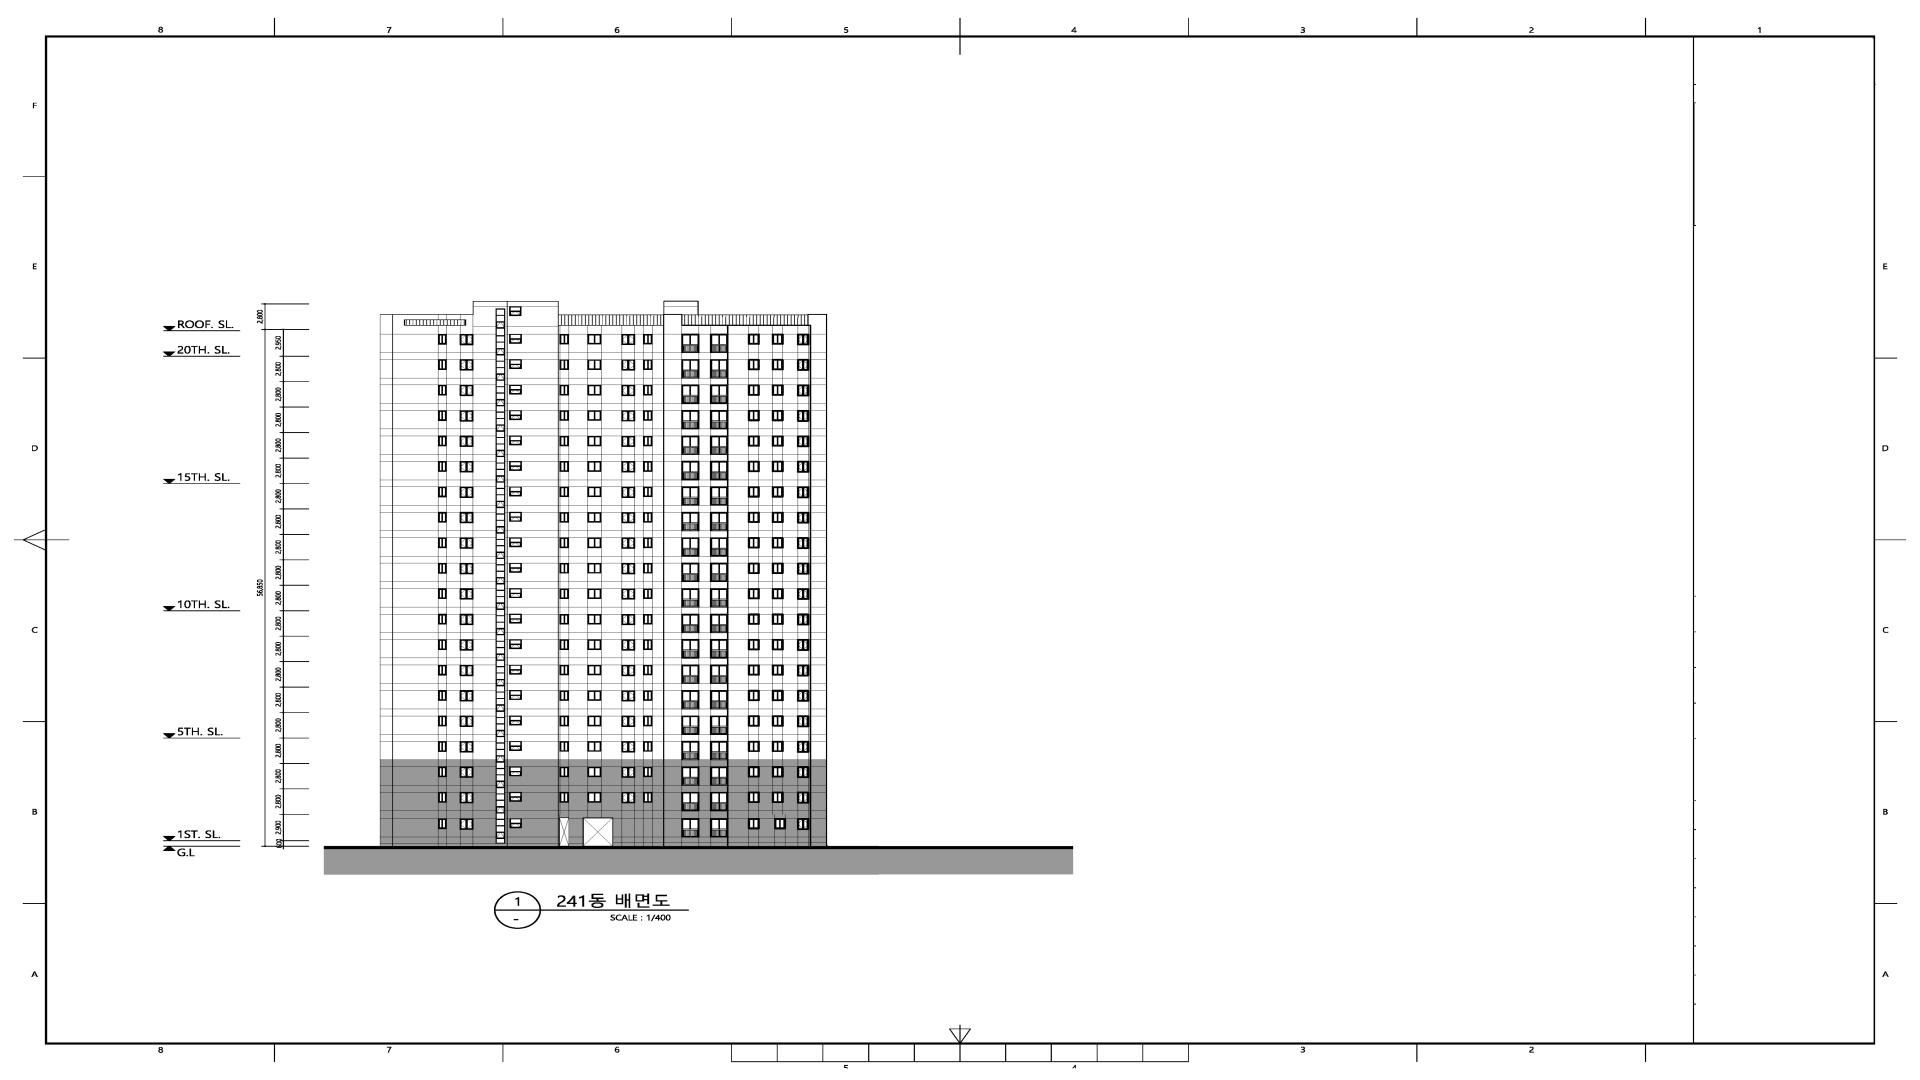door: (583, 818, 613, 847), (559, 818, 570, 847)
wall: (380, 301, 827, 847)
window: (404, 319, 465, 326), (680, 435, 699, 455), (709, 818, 728, 837), (709, 766, 728, 786), (709, 741, 728, 761), (709, 690, 728, 709), (709, 665, 728, 684), (709, 613, 728, 633), (709, 588, 728, 608), (709, 512, 728, 531), (709, 487, 728, 506), (709, 435, 728, 455), (709, 410, 728, 430), (709, 359, 728, 378), (709, 334, 728, 353), (680, 640, 699, 658), (680, 716, 699, 735), (709, 793, 728, 811), (709, 716, 728, 735), (709, 640, 728, 658), (709, 563, 728, 582), (709, 538, 728, 556), (709, 462, 728, 480), (709, 385, 728, 404), (682, 334, 699, 353), (682, 359, 699, 378), (682, 410, 699, 430), (682, 487, 699, 506), (682, 512, 699, 531), (682, 588, 699, 608), (682, 613, 699, 633), (682, 665, 699, 684), (682, 690, 699, 709), (682, 741, 699, 761), (682, 766, 699, 786), (682, 818, 699, 837), (682, 385, 699, 404), (682, 462, 699, 480), (682, 538, 699, 556), (682, 563, 699, 582), (682, 793, 699, 811), (587, 435, 601, 447), (459, 334, 473, 345), (459, 359, 473, 371), (459, 410, 473, 422), (459, 435, 473, 447), (459, 487, 473, 498), (459, 588, 473, 600), (459, 613, 473, 625), (459, 766, 473, 778), (621, 766, 636, 778), (621, 741, 636, 753), (621, 690, 636, 702), (621, 665, 636, 676), (621, 588, 636, 600), (621, 563, 636, 575), (621, 512, 636, 524), (621, 487, 636, 498), (621, 435, 636, 447), (621, 410, 636, 422), (621, 334, 636, 345), (460, 512, 473, 524), (460, 563, 473, 575), (460, 665, 473, 676), (460, 690, 473, 702), (460, 741, 473, 753), (796, 334, 810, 345), (796, 359, 810, 371), (796, 385, 810, 397), (796, 410, 810, 422), (796, 435, 810, 447), (796, 460, 810, 472), (796, 487, 810, 498), (796, 512, 810, 524), (796, 537, 810, 549), (796, 563, 810, 575), (796, 588, 810, 600), (796, 613, 810, 625), (796, 640, 810, 651), (796, 665, 810, 676), (796, 690, 810, 702), (796, 715, 810, 727), (796, 741, 810, 753), (796, 766, 810, 778), (796, 791, 810, 803), (796, 818, 810, 829), (587, 793, 601, 803), (587, 766, 601, 777), (587, 741, 601, 752), (587, 716, 601, 727), (587, 691, 601, 702), (587, 665, 601, 675), (587, 640, 601, 650), (587, 615, 601, 625), (587, 588, 601, 599), (587, 563, 601, 574), (587, 538, 601, 549), (587, 512, 601, 522), (587, 487, 601, 497), (587, 462, 601, 472), (587, 410, 601, 421), (587, 385, 601, 396), (587, 360, 601, 371), (587, 334, 601, 344), (459, 385, 473, 396), (459, 538, 473, 549), (459, 640, 473, 650), (459, 716, 473, 727), (459, 819, 473, 829), (621, 793, 636, 803), (621, 716, 636, 727), (621, 640, 636, 650), (621, 615, 636, 625), (621, 538, 636, 549), (621, 462, 636, 472), (621, 385, 636, 396), (621, 360, 636, 371), (748, 818, 760, 829), (748, 791, 760, 803), (748, 766, 760, 778), (748, 715, 760, 727), (748, 690, 760, 702), (748, 613, 760, 625), (748, 588, 760, 600), (748, 537, 760, 549), (748, 512, 760, 524), (748, 460, 760, 472), (748, 435, 760, 447), (748, 410, 760, 422), (748, 359, 760, 371), (771, 334, 783, 345), (771, 359, 783, 371), (771, 410, 783, 422), (771, 435, 783, 447), (771, 460, 783, 472), (771, 512, 783, 524), (771, 537, 783, 549), (771, 588, 783, 600), (771, 613, 783, 625), (771, 690, 783, 702), (771, 715, 783, 727), (771, 766, 783, 778), (771, 791, 783, 803), (774, 818, 786, 829), (460, 462, 473, 472), (460, 793, 473, 803), (509, 766, 522, 777), (509, 690, 522, 700), (509, 665, 522, 675), (509, 613, 522, 624), (509, 512, 522, 522), (509, 435, 522, 446), (509, 410, 522, 421), (509, 359, 522, 369), (509, 334, 522, 344), (559, 435, 570, 447), (748, 741, 760, 752), (748, 665, 760, 675), (748, 640, 760, 650), (748, 563, 760, 574), (748, 487, 760, 497), (748, 385, 760, 396), (748, 334, 760, 344), (771, 385, 783, 396), (771, 487, 783, 497), (771, 563, 783, 574), (771, 640, 783, 650), (771, 665, 783, 675), (771, 741, 783, 752), (509, 306, 521, 316), (509, 819, 522, 828), (509, 793, 522, 802), (509, 741, 522, 750), (509, 716, 522, 725), (509, 640, 522, 649), (509, 588, 522, 597), (509, 563, 522, 572), (509, 538, 522, 547), (509, 487, 522, 496), (509, 462, 522, 471), (509, 385, 522, 394), (559, 793, 570, 803), (559, 766, 570, 777), (559, 716, 570, 727), (559, 640, 570, 650), (559, 615, 570, 625), (559, 588, 570, 599), (559, 538, 570, 549), (559, 512, 570, 522), (559, 410, 570, 421), (559, 385, 570, 396), (559, 360, 570, 371), (559, 334, 570, 344), (642, 487, 653, 497), (438, 613, 447, 625), (438, 334, 447, 344), (438, 359, 447, 369), (438, 385, 447, 396), (438, 410, 447, 421), (438, 435, 447, 446), (438, 462, 447, 472), (438, 487, 447, 497), (438, 512, 447, 522), (438, 538, 447, 549), (438, 563, 447, 574), (438, 588, 447, 599), (438, 640, 447, 650), (438, 665, 447, 675), (438, 690, 447, 700), (438, 716, 447, 727), (438, 741, 447, 752), (438, 766, 447, 777), (438, 793, 447, 803), (438, 819, 447, 829), (559, 741, 568, 752), (559, 691, 570, 700), (559, 665, 568, 675), (559, 563, 568, 574), (559, 487, 568, 497), (559, 462, 568, 472), (644, 334, 653, 344), (644, 360, 653, 371), (644, 385, 653, 396), (644, 410, 653, 421), (644, 462, 653, 472), (644, 512, 653, 522), (644, 538, 653, 549), (644, 563, 653, 574), (644, 588, 653, 599), (644, 615, 653, 625), (644, 640, 653, 650), (644, 665, 653, 675), (644, 690, 653, 700), (644, 716, 653, 727), (644, 741, 653, 752), (644, 766, 653, 777), (644, 793, 653, 803), (644, 436, 653, 446), (496, 781, 505, 789), (496, 806, 505, 814), (496, 348, 505, 356), (496, 373, 505, 381), (496, 450, 505, 458), (496, 475, 505, 483), (496, 526, 505, 534), (496, 551, 505, 559), (496, 603, 505, 611), (496, 628, 505, 636), (496, 704, 505, 712), (496, 729, 505, 737), (496, 832, 505, 839), (496, 322, 505, 328), (496, 400, 505, 406), (496, 425, 505, 431), (496, 501, 505, 508), (496, 578, 505, 584), (496, 654, 505, 661), (496, 679, 505, 686), (496, 756, 505, 762)
